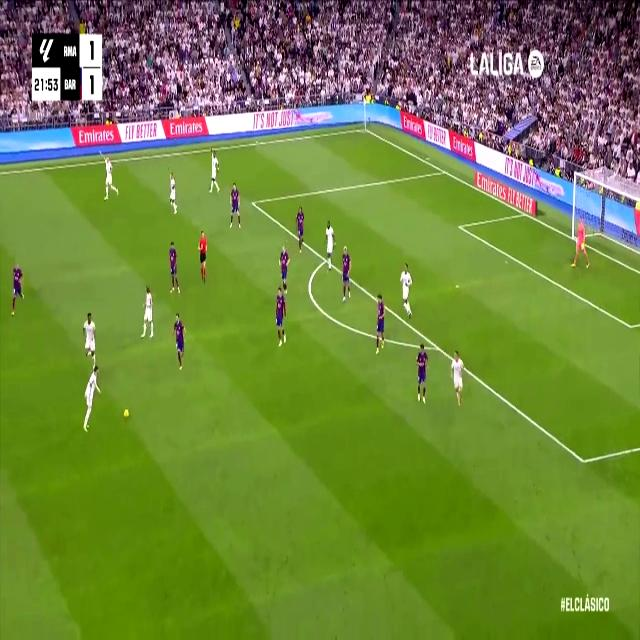bigarea_bottom_inner: (576, 444, 590, 476)
bigarea_top_inner: (249, 193, 257, 210)
bigarea_top_outter: (441, 165, 447, 176)
bottom_arc_area_intersection: (432, 336, 442, 356)
corner: (360, 123, 369, 134)
midline_bottom_intersection: (570, 232, 576, 244)
smallarea_bottom_inner: (626, 315, 636, 337)
smallarea_top_inner: (457, 220, 462, 232)
top_arc_area_intersection: (322, 252, 330, 268)
